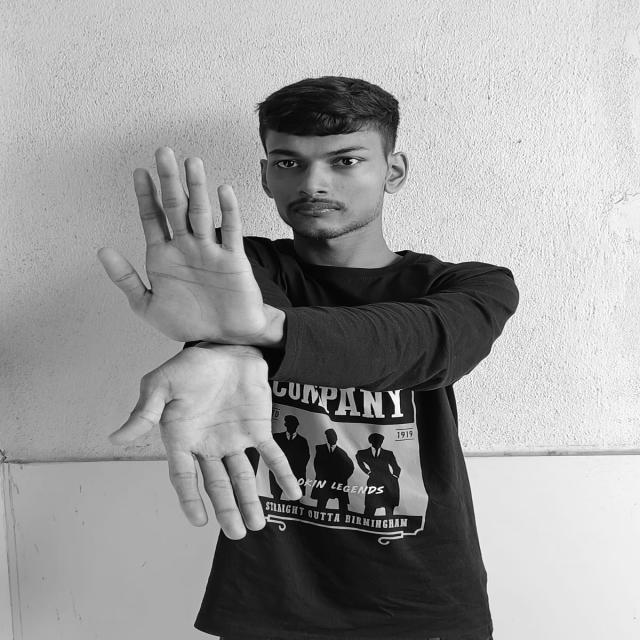Morning: (89, 146, 304, 543)
